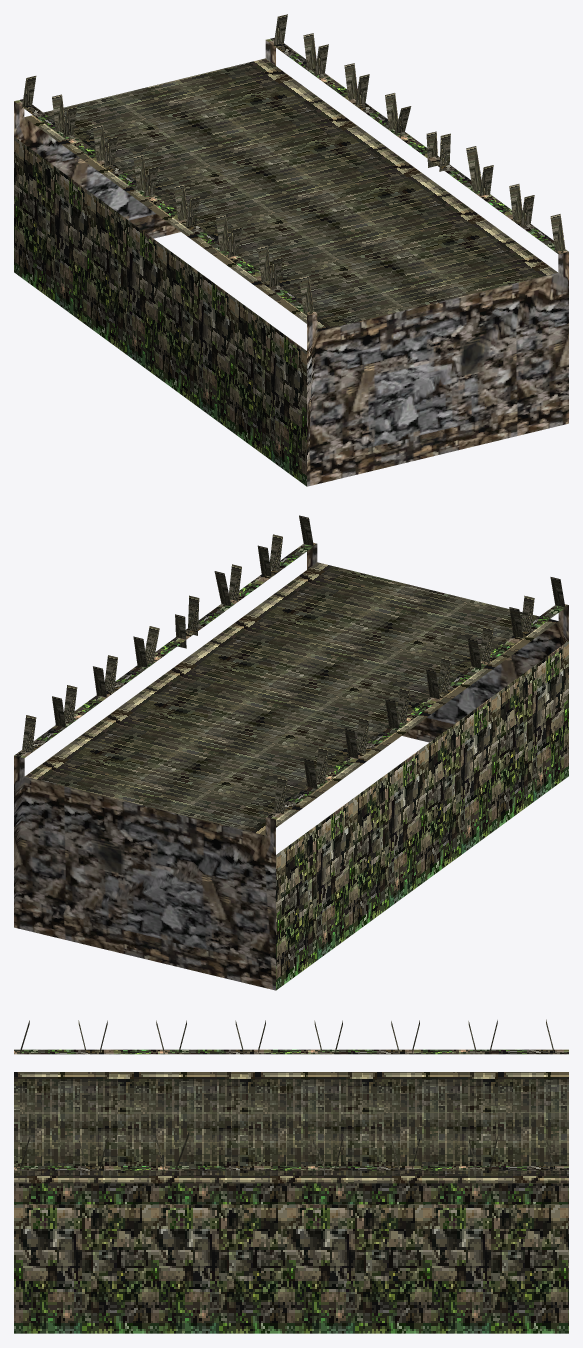
The model's file is Civilian - Civilian Building - Fortress Wall Middle - Damaged - CMWalAkml1_D.glb.
The picture shows the model from 3 angles, top to bottom: view 1: azimuth 30°, elevation 25°; view 2: azimuth 150°, elevation 25°; view 3: azimuth 270°, elevation 25°; orthographic projection. The views are drawn at different scales.
Parts seen in each view (by area): view 1: CMWALAKML1_D; view 2: CMWALAKML1_D; view 3: CMWALAKML1_D.
Part boxes in pixels (x1,y1,x2,y2): CMWALAKML1_D: [14, 14, 568, 486]; CMWALAKML1_D: [14, 515, 568, 990]; CMWALAKML1_D: [14, 1019, 568, 1333].
Size of the model in its own units: 58.67 by 44.93 by 114.
Materials: 5 (5 with a texture image).
